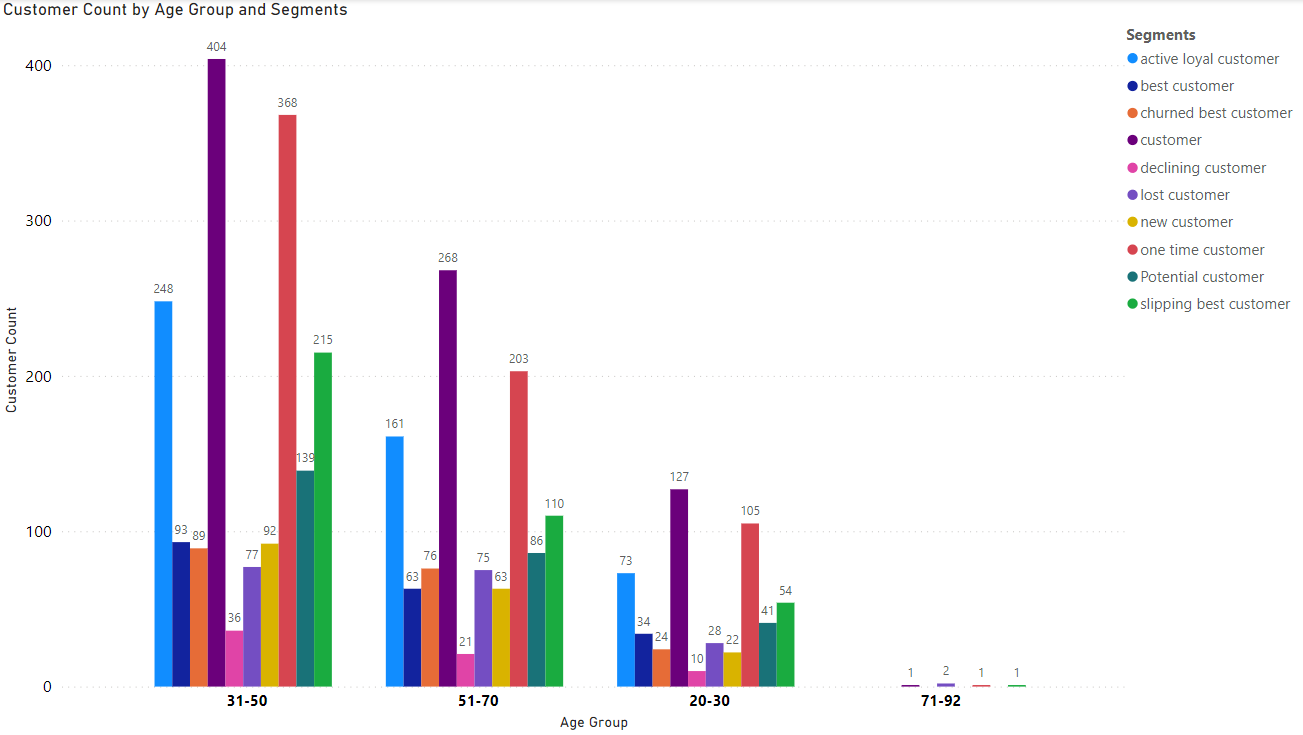

The dashboard page shown, as its layout file describes it:
{"tool":"powerbi","page":{"name":"Customer Count by Age Group and Segments","canvas":[1280,720],"ordinal":1},"visuals":[{"type":"clusteredColumnChart","title":"Customer Count by Age Group and Segments","fields":{"Category":["customer_demographic.age_group"],"Series":["Customer_Segmentation (2).rfm_segment"],"Y":["CountNonNull(customer_demographic.customer_id)"]},"box":[0,0,1280.3,720.4],"z":0}]}

Visuals, with their boxes in screenshot pixels (x1, y1, x2, y2), scaled from the page's 1280x720 canvas onto the 1303x735 screenshot:
"Customer Count by Age Group and Segments" clusteredColumnChart: x1=0 y1=0 x2=1302 y2=734
